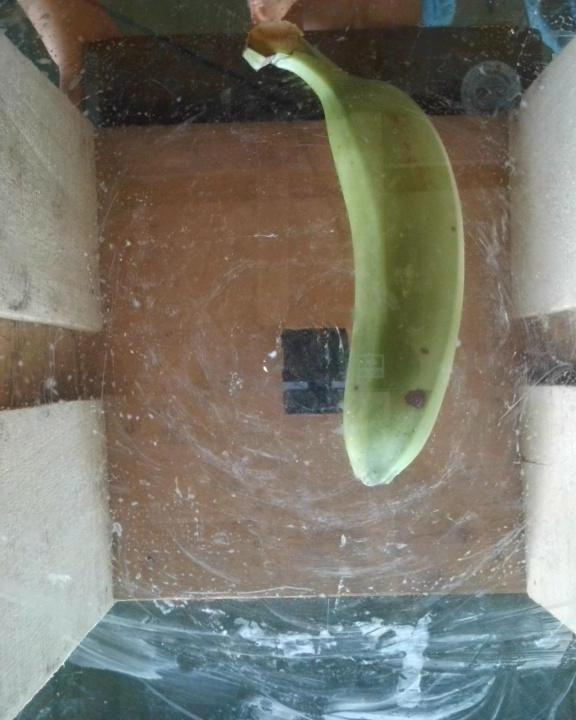CLASS B: (237, 14, 476, 492)
Class A: (388, 380, 439, 411)
